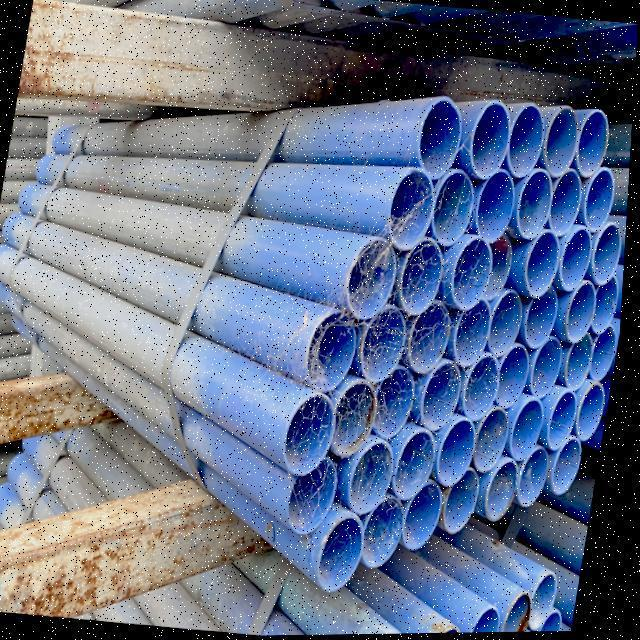pipe: (402, 233, 510, 321), (176, 554, 276, 634), (348, 432, 442, 515), (340, 230, 406, 328), (282, 385, 348, 480), (411, 91, 471, 188), (383, 163, 447, 253), (304, 304, 368, 394), (369, 483, 438, 562), (539, 104, 608, 182), (356, 303, 418, 389), (444, 230, 506, 316), (395, 236, 455, 322), (328, 374, 384, 461), (427, 167, 483, 253), (346, 435, 404, 518), (464, 98, 518, 184), (392, 426, 450, 505), (418, 356, 475, 436), (359, 494, 415, 574), (517, 224, 567, 312), (318, 512, 374, 590), (508, 164, 561, 246), (403, 298, 458, 376), (434, 412, 486, 492), (498, 102, 550, 182), (459, 347, 512, 425), (470, 167, 521, 246), (400, 480, 452, 556), (470, 403, 519, 480), (450, 297, 500, 372), (554, 218, 600, 299), (524, 329, 572, 406), (486, 288, 534, 364), (441, 464, 489, 539), (552, 428, 596, 506), (558, 273, 604, 347), (521, 282, 568, 354), (484, 455, 530, 526), (511, 395, 556, 467), (542, 384, 586, 456), (493, 341, 536, 414), (576, 372, 615, 452), (586, 220, 628, 294), (558, 330, 602, 398), (528, 564, 570, 634), (578, 167, 620, 236), (590, 268, 628, 344), (587, 319, 625, 395), (518, 441, 558, 512), (33, 0, 192, 13), (500, 588, 543, 634), (436, 610, 501, 634), (473, 599, 515, 634), (540, 607, 574, 633), (432, 616, 473, 634)
